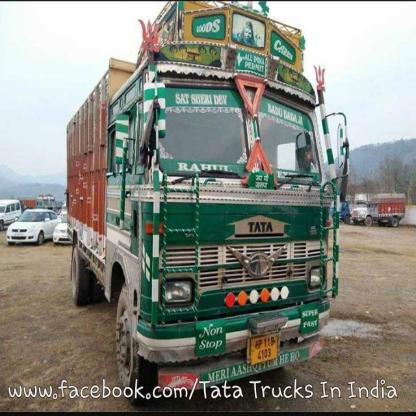truck: (62, 26, 340, 378), (348, 190, 406, 230), (18, 193, 58, 209)
